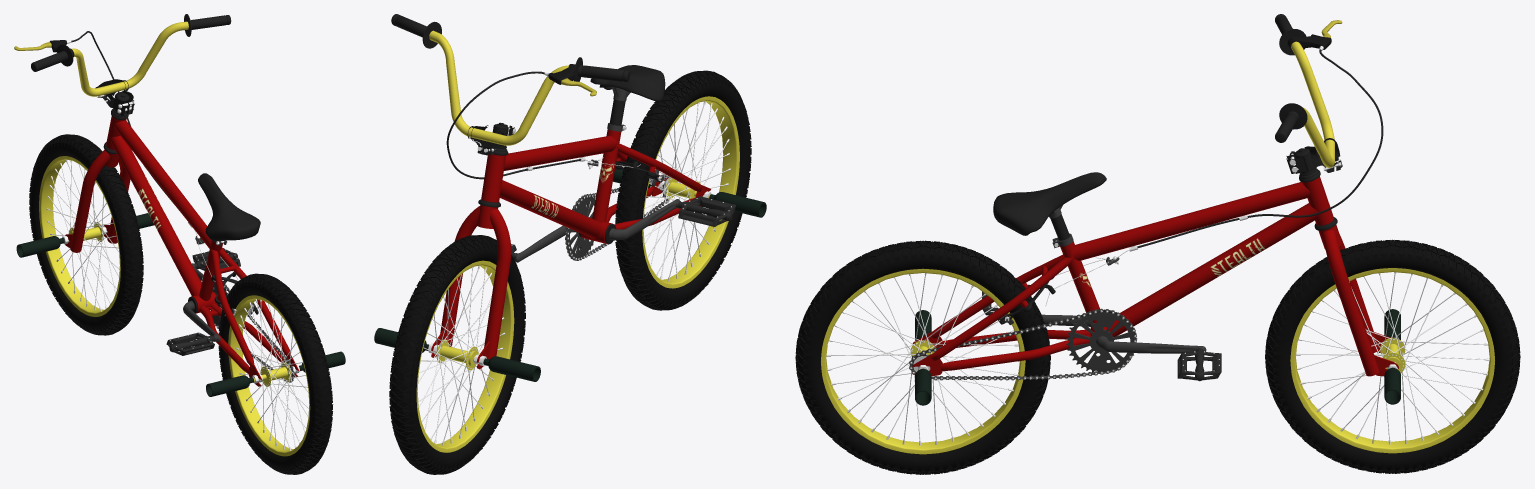
Rendered from bmx.glb.
3 renders of one model, left to right at view 1: azimuth 30°, elevation 25°; view 2: azimuth 150°, elevation 25°; view 3: azimuth 270°, elevation 25°, orthographic. The views are drawn at different scales.
Parts seen in each view (by area): view 1: Plane.001, Plane, Cylinder.001, Circle.003, Circle.001, Plane.003, Cylinder, Cylinder.007, Cylinder.005, Cylinder.034, Cylinder.035, Cylinder.008 (+17 smaller); view 2: Plane, Plane.001, Cylinder.005, Circle.001, Circle.003, Cylinder.034, Cylinder.001, Cylinder, Cylinder.035, Plane.003, Cylinder.056, Cylinder.057 (+22 smaller); view 3: Plane, Plane.001, Circle.003, Circle.001, Cylinder, Cylinder.001, Plane.003, Cylinder.005, Cylinder.007, Circle, Cylinder.008, Cylinder.034 (+17 smaller).
Boxes of the visible parts, x1=… form: Plane.001: x1=218, y1=273, x2=333, y2=474; Plane: x1=29, y1=134, x2=143, y2=335; Cylinder.001: x1=110, y1=136, x2=201, y2=295; Circle.003: x1=39, y1=156, x2=120, y2=316; Circle.001: x1=228, y1=295, x2=310, y2=456; Plane.003: x1=198, y1=173, x2=260, y2=240; Cylinder: x1=113, y1=120, x2=211, y2=248; Cylinder.007: x1=210, y1=247, x2=298, y2=386; Cylinder.005: x1=65, y1=150, x2=130, y2=252; Cylinder.034: x1=71, y1=21, x2=188, y2=96; Cylinder.035: x1=31, y1=14, x2=231, y2=71; Cylinder.008: x1=199, y1=303, x2=285, y2=374; Plane: x1=389, y1=235, x2=525, y2=474; Plane.001: x1=615, y1=70, x2=751, y2=310; Cylinder.005: x1=431, y1=206, x2=511, y2=369; Circle.001: x1=642, y1=96, x2=739, y2=288; Circle.003: x1=416, y1=260, x2=514, y2=452; Cylinder.034: x1=429, y1=30, x2=568, y2=145; Cylinder.001: x1=499, y1=180, x2=601, y2=238; Cylinder: x1=504, y1=136, x2=616, y2=170; Cylinder.035: x1=391, y1=14, x2=630, y2=81; Plane.003: x1=590, y1=65, x2=665, y2=102; Cylinder.056: x1=374, y1=328, x2=540, y2=381; Cylinder.057: x1=678, y1=196, x2=735, y2=226; Plane: x1=1265, y1=239, x2=1520, y2=473; Plane.001: x1=795, y1=240, x2=1050, y2=474; Circle.003: x1=1290, y1=268, x2=1494, y2=453; Circle.001: x1=821, y1=268, x2=1025, y2=454; Cylinder: x1=1073, y1=182, x2=1310, y2=260; Cylinder.001: x1=1105, y1=203, x2=1317, y2=336; Plane.003: x1=993, y1=172, x2=1106, y2=235; Cylinder.005: x1=1322, y1=230, x2=1398, y2=376; Cylinder.007: x1=912, y1=254, x2=1074, y2=376; Circle: x1=1066, y1=309, x2=1137, y2=372; Cylinder.008: x1=940, y1=329, x2=1090, y2=371; Cylinder.034: x1=1291, y1=41, x2=1334, y2=167.
Bounding box in the file's own units: 84.86 × 135 × 217.
24 materials, 2 textured.
